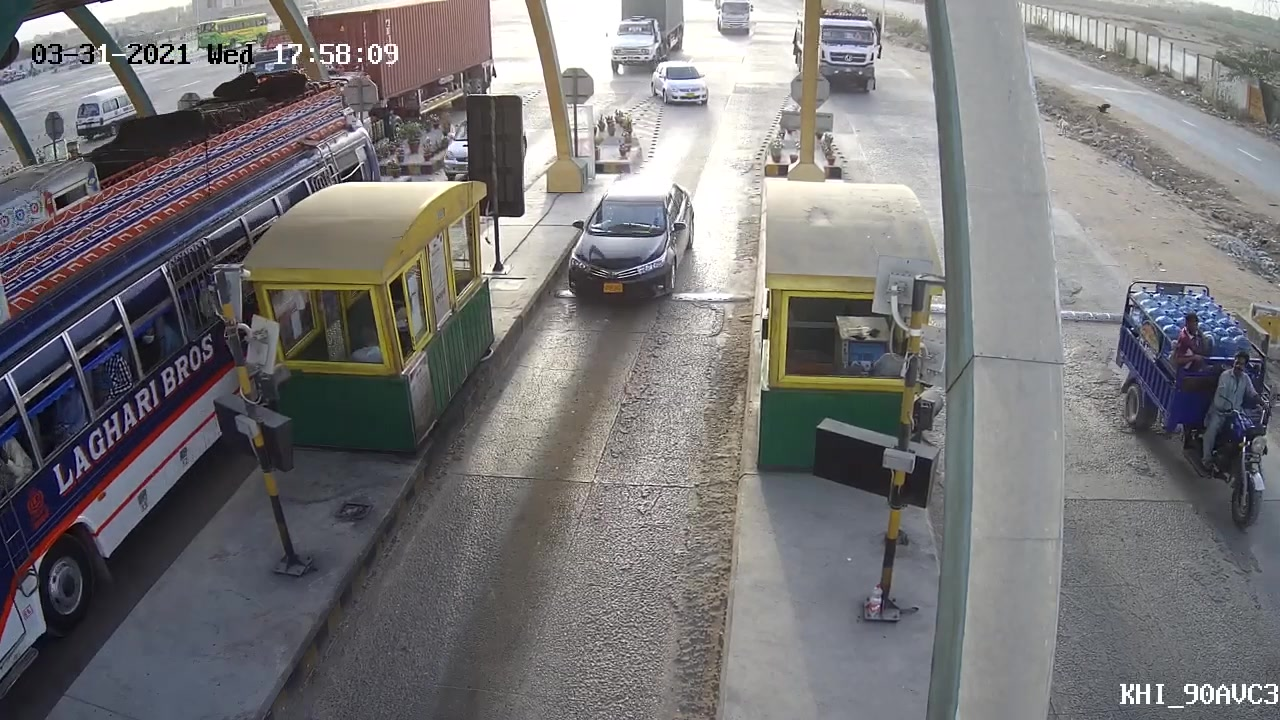F1: (554, 176, 706, 319)
